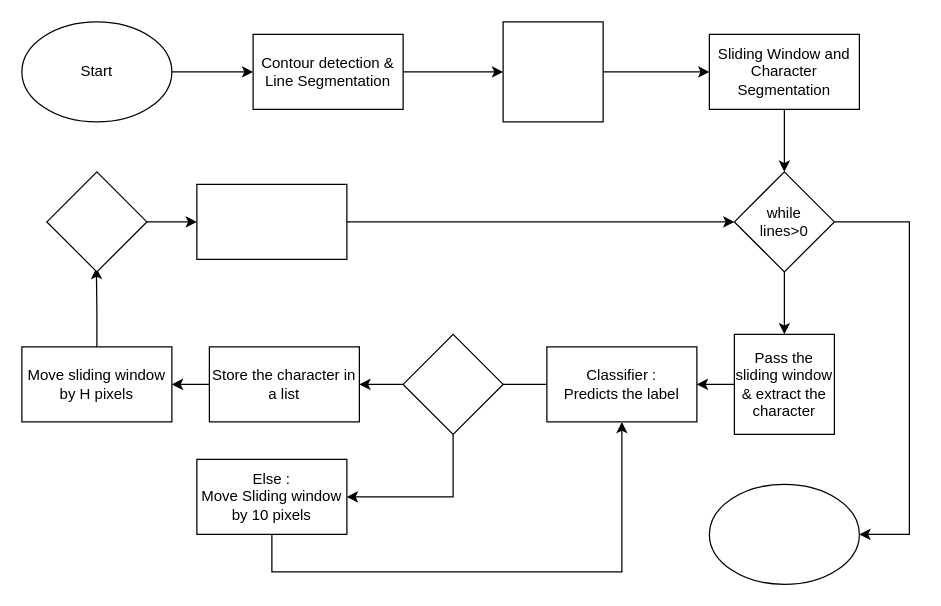
Some shapes in this 941 by 606 pixel diagram are drawn without their labels. Here are the shapes that lost their labels. From the top down, the box of each, then its label:
(502, 21, 603, 122): Extracts the lines and stores them in a folder
(46, 171, 147, 272): If end of image
(196, 183, 347, 259): Next Line Image line = line-1
(402, 333, 503, 434): if Conf > 80
(708, 483, 859, 584): Stop
